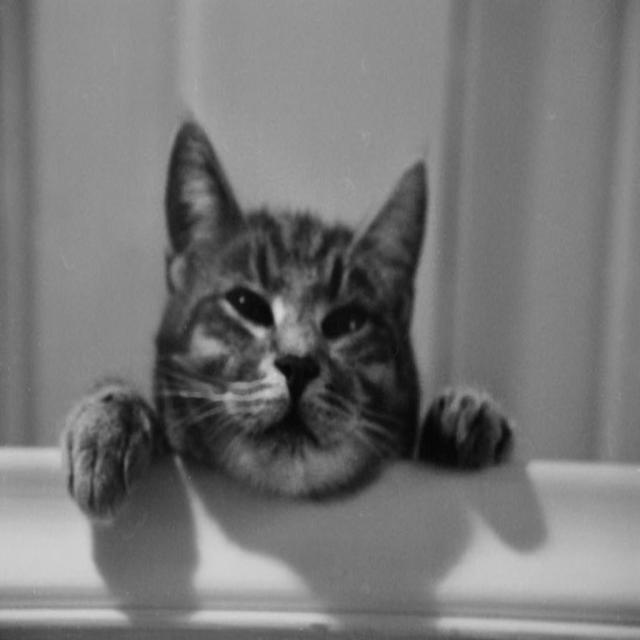Cat: (56, 117, 518, 530)
